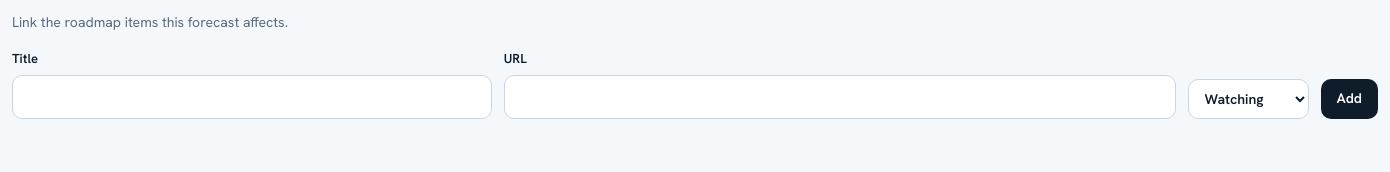
Test: RoadmapLinks › adds a link with the default stance
This screenshot has width=1390, height=172.
In the field labelled "Title": (252, 96) [12,74,492,118], type "New one"
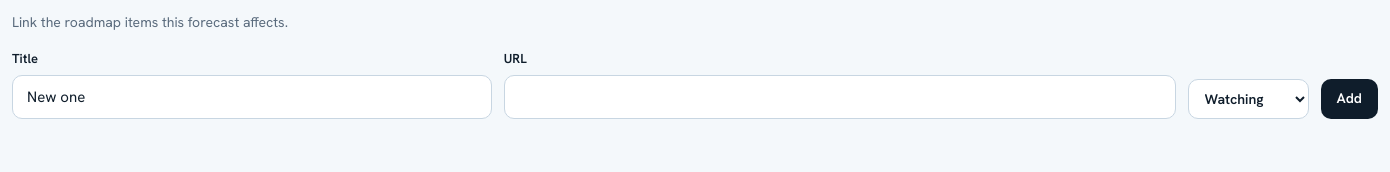
In the field labelled "URL": (840, 96) [504,74,1176,118], type "https://a.example.org/x"
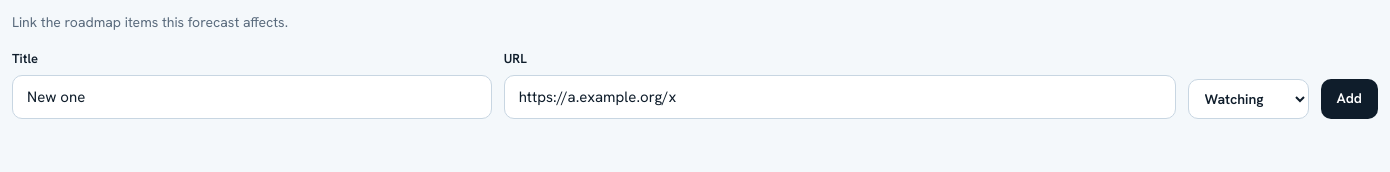
Click the button "Add": (1349, 98) [1320,78,1378,118]
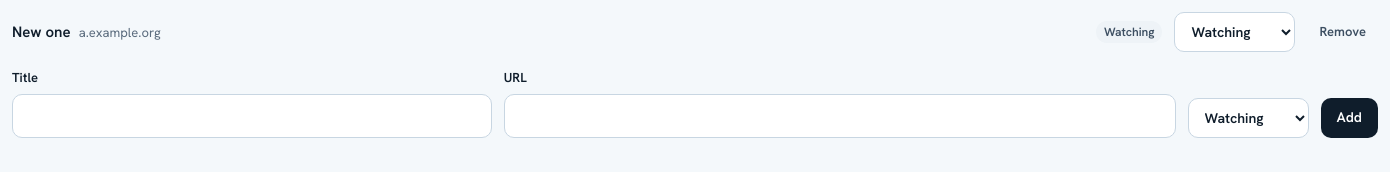
expect the link "New one" is shown: met, box [12,22,71,42]
